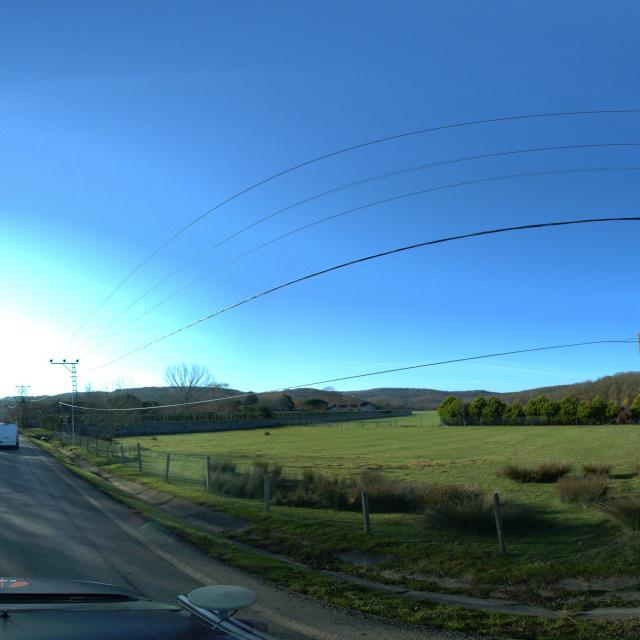Utility Pole Information Plate: (72, 415, 74, 417)
